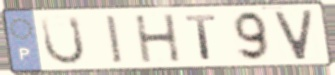9: (229, 10, 272, 63)
H: (132, 12, 183, 65)
I: (103, 13, 126, 66)
T: (183, 13, 220, 62)
U: (38, 14, 88, 67)
V: (272, 8, 316, 62)
